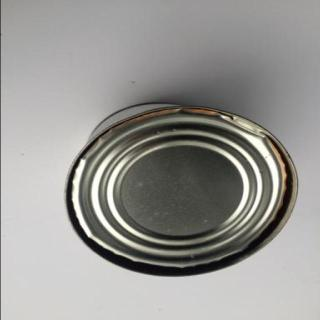Anorganik: (62, 100, 304, 280)
